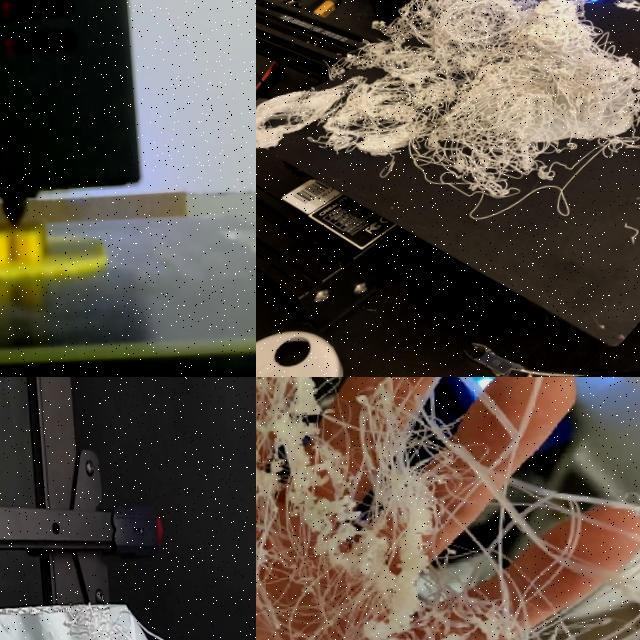spaghetti: (256, 377, 640, 640), (256, 0, 640, 201), (20, 585, 236, 640)
